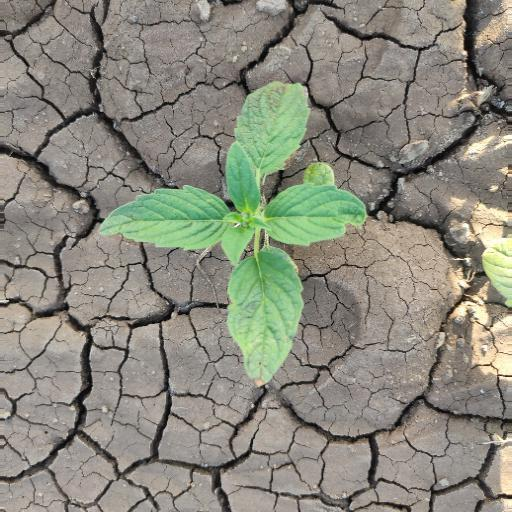crop: (98, 90, 370, 385)
